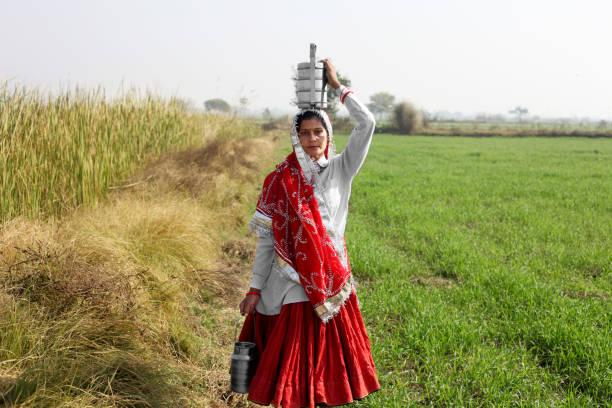Human: (227, 75, 411, 408)
